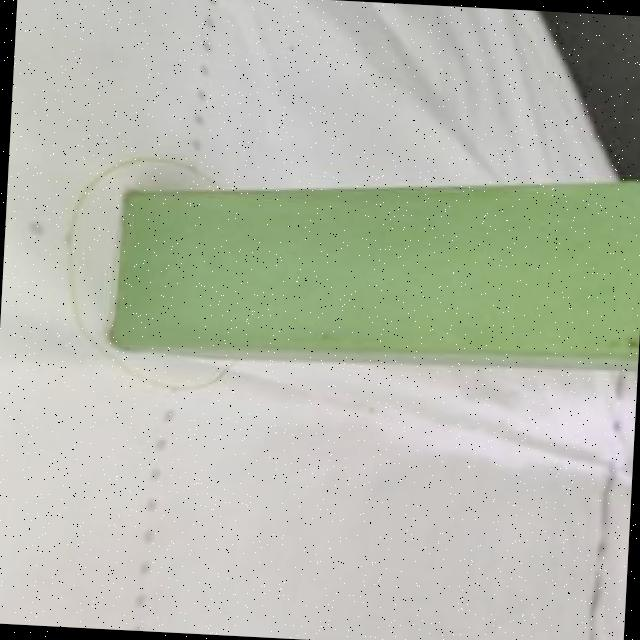greenbox: (118, 150, 640, 380)
